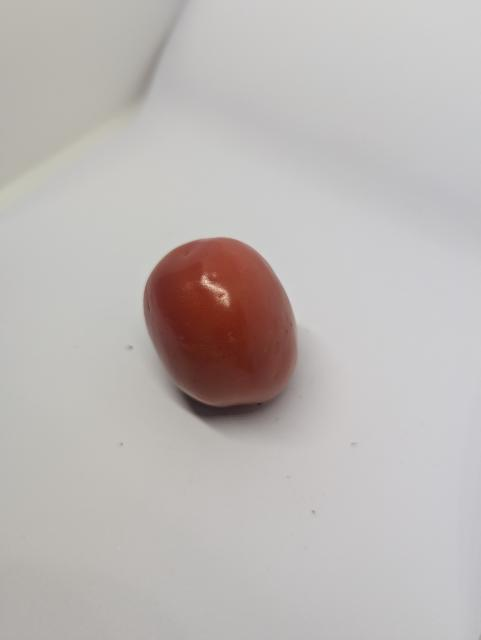red: (136, 228, 313, 416)
